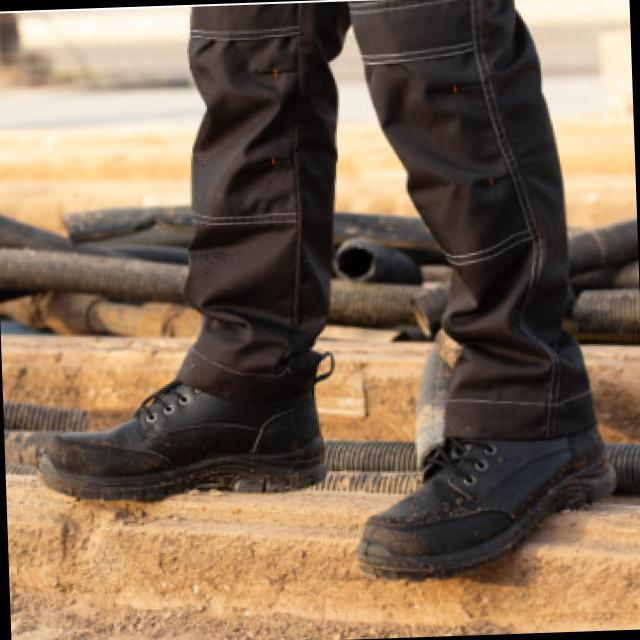shoes: (28, 325, 623, 592)
